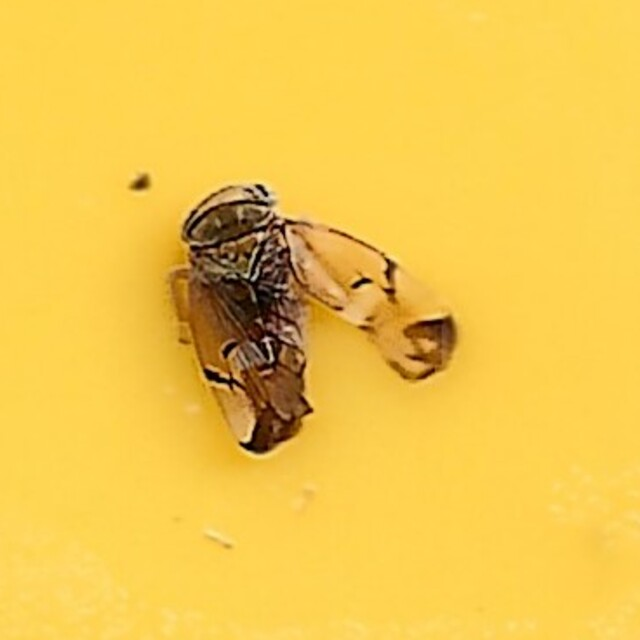Hemiptera: (174, 177, 466, 463)
